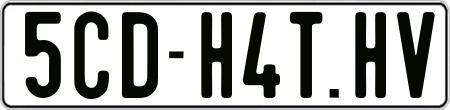4: (242, 12, 280, 103)
5: (25, 9, 67, 95)
C: (71, 9, 112, 100)
D: (121, 12, 160, 98)
H: (199, 12, 232, 99), (352, 12, 383, 101)
T: (289, 11, 323, 101)
V: (395, 12, 435, 102)
